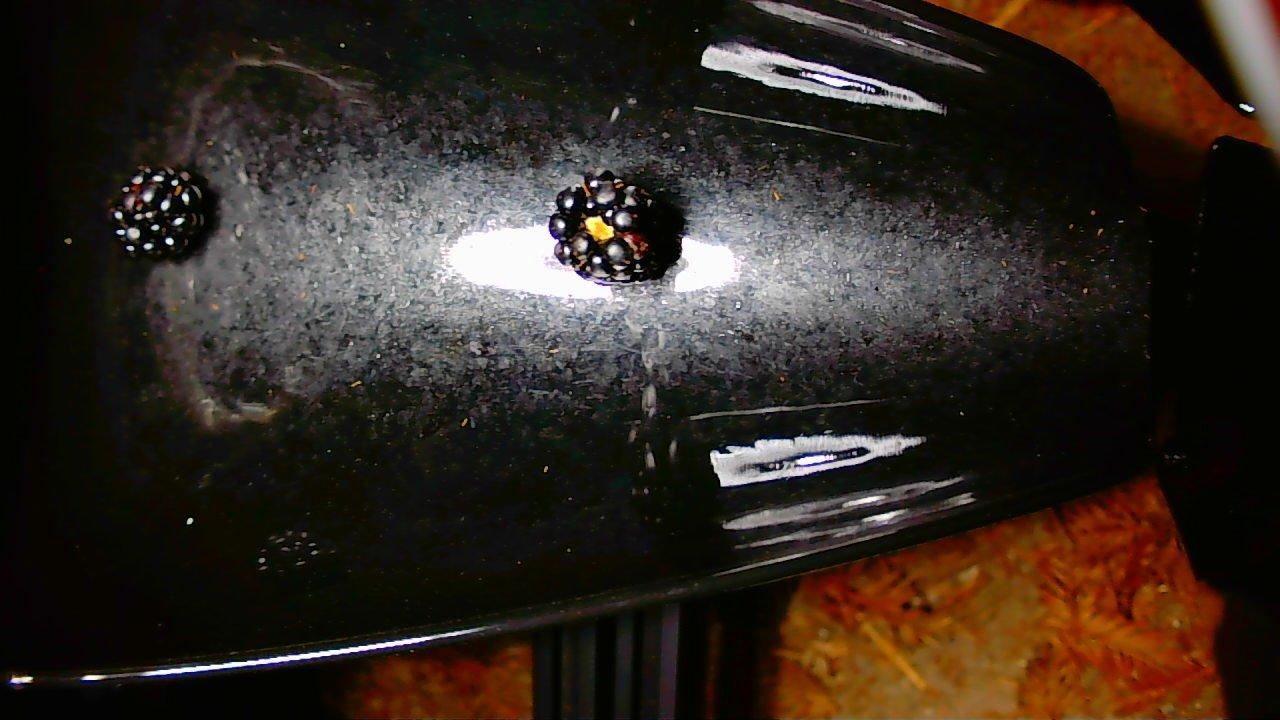berry: (547, 172, 677, 283), (110, 166, 207, 258)
